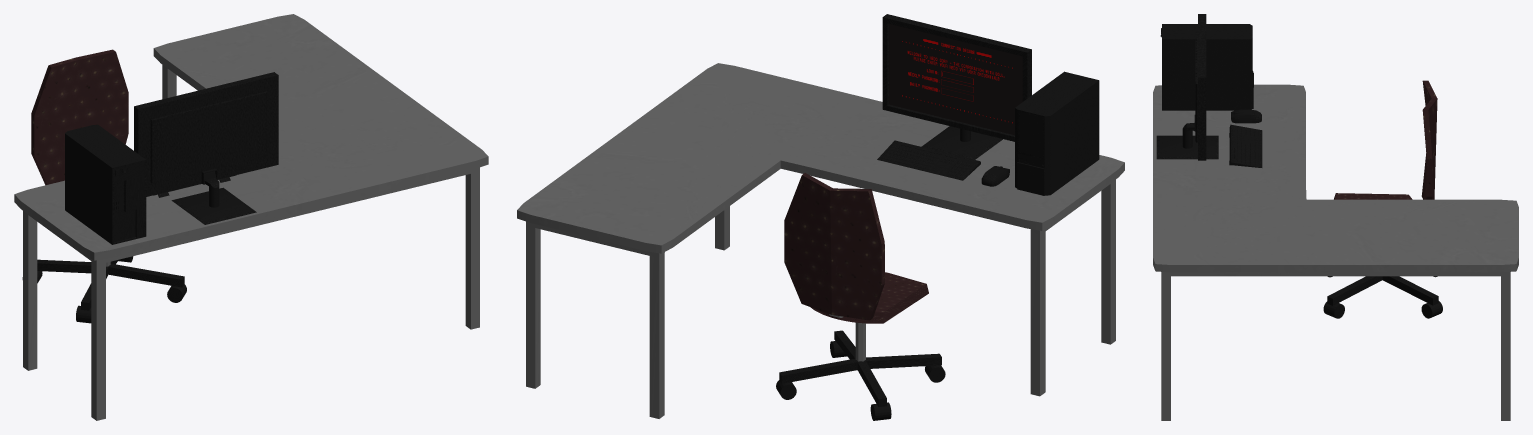
The model's file is chairUpdated.fbx.
3 renders of one model, left to right at view 1: azimuth 30°, elevation 25°; view 2: azimuth 150°, elevation 25°; view 3: azimuth 270°, elevation 25°, orthographic. The views are drawn at different scales.
Parts seen in each view (by area): view 1: Box003, monitor, Plane.001, PC, Cube; view 2: Box003, monitor, Plane.001, PC, Cube, Object001, Plane.002; view 3: Box003, PC, monitor, Cube, Plane.001, Object001, Plane.002, Box002.
Boxes of the visible parts, box(x1,y1,x2,y2) form: Box003: box(14, 14, 488, 420); monitor: box(134, 72, 278, 224); Plane.001: box(31, 49, 128, 185); PC: box(65, 124, 146, 244); Cube: box(22, 256, 186, 323); Box003: box(517, 63, 1124, 418); monitor: box(882, 14, 1031, 159); Plane.001: box(784, 173, 884, 320); PC: box(1015, 71, 1099, 195); Cube: box(776, 330, 945, 420); Object001: box(877, 140, 980, 180); Plane.002: box(810, 272, 928, 323); Box003: box(1153, 84, 1518, 420); PC: box(1160, 24, 1253, 110); monitor: box(1156, 14, 1218, 160); Cube: box(1323, 276, 1442, 318); Plane.001: box(1421, 80, 1437, 199); Object001: box(1229, 124, 1262, 167); Plane.002: box(1334, 193, 1412, 199); Box002: box(1231, 109, 1261, 123).
Size of the model in its own units: 551 by 372 by 472.
4 materials, 4 textured.
